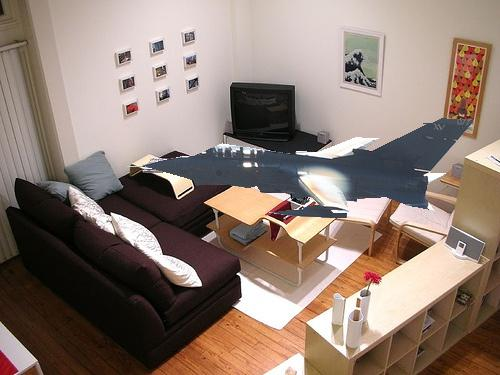tampered: (128, 119, 473, 218)
